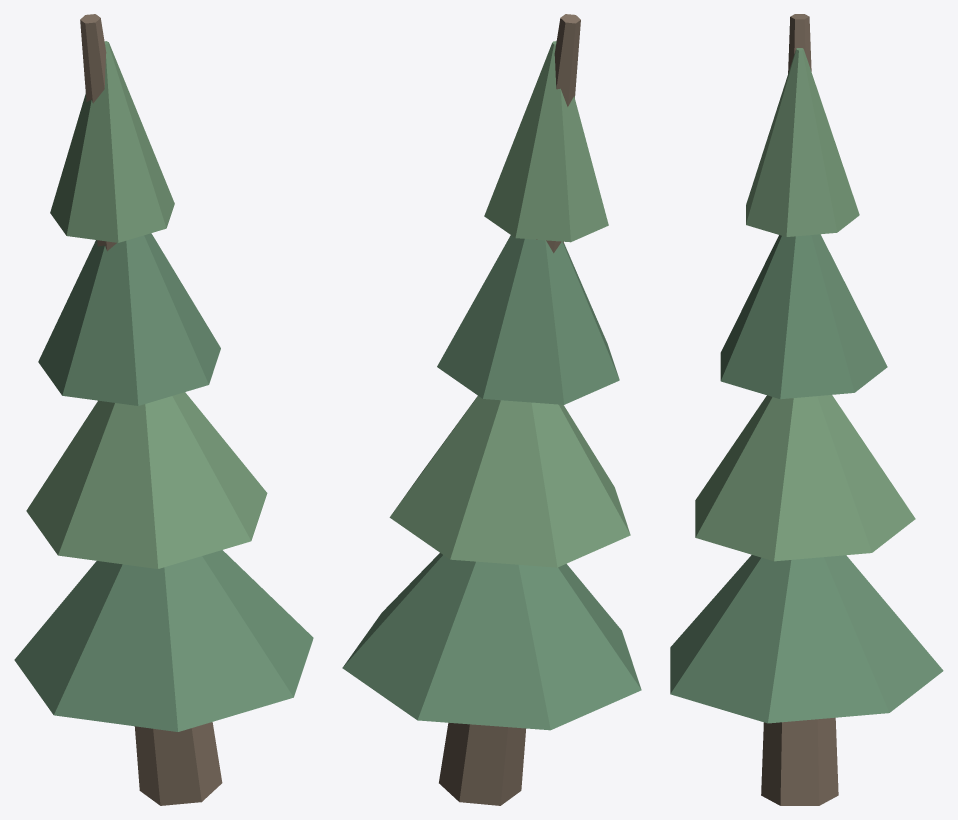
The model's file is pine_v00.glb.
3 renders of one model, left to right at view 1: azimuth 30°, elevation 25°; view 2: azimuth 150°, elevation 25°; view 3: azimuth 270°, elevation 25°, orthographic. The views are drawn at different scales.
Parts seen in each view (by area): view 1: lod0; view 2: lod0; view 3: lod0.
Boxes of the visible parts, <box> form: lod0: <box>14,14,313,805</box>; lod0: <box>342,14,641,805</box>; lod0: <box>670,14,943,805</box>.
Size of what is drawn, in the model's own units: 1.45 by 4.23 by 1.41.
